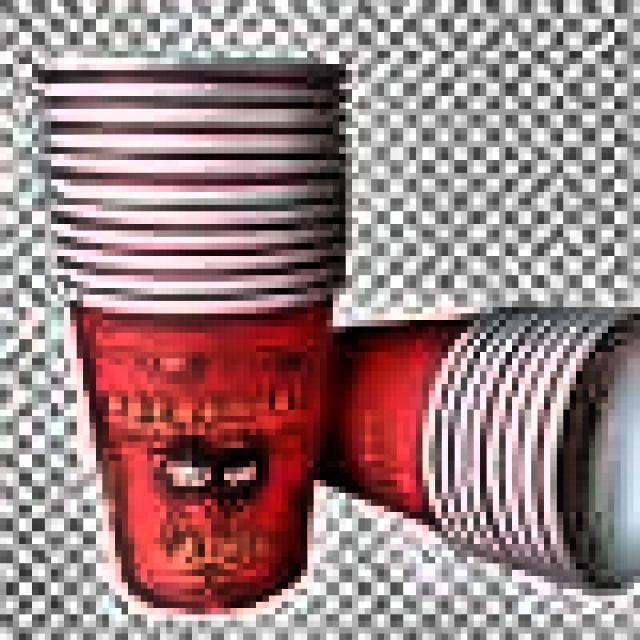Cup: (24, 53, 362, 617), (210, 304, 640, 604)
